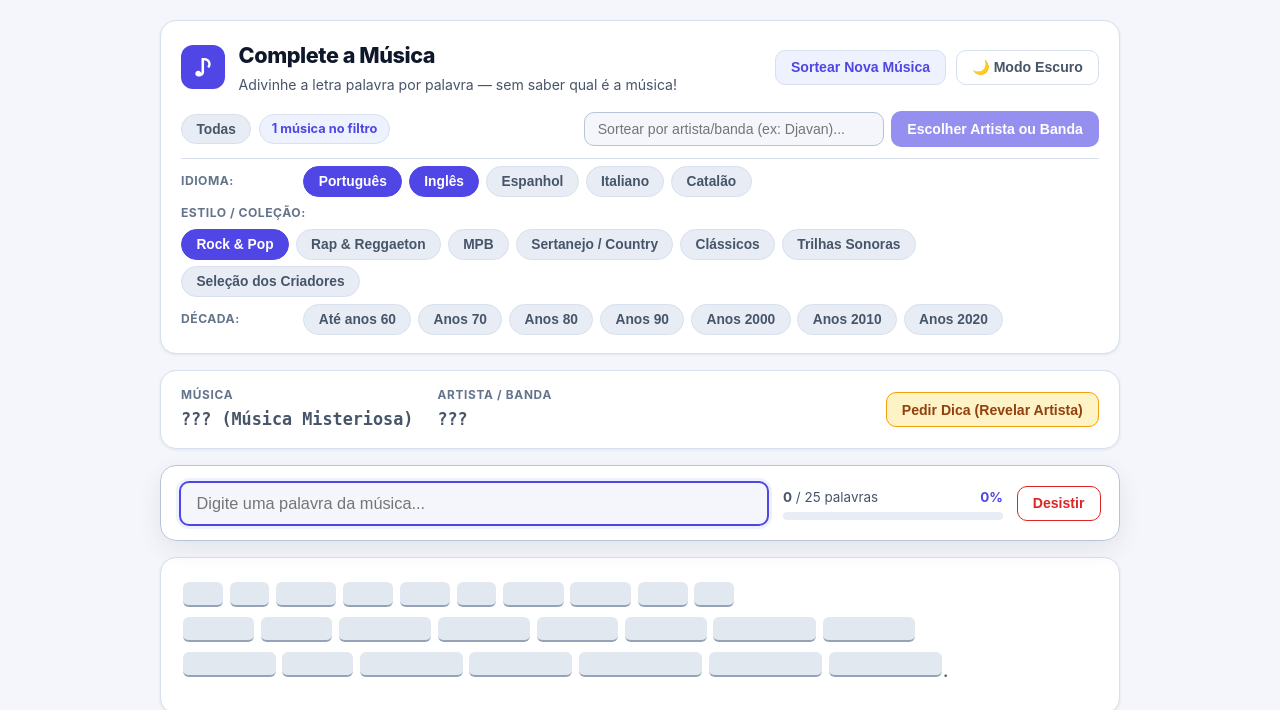
it: Artist / Band Live Draw Mode › draws a song live by artist without adding it to the base catalog and keeps title hidden
Expected: the field labelled "Digite uma palavra da música..." is shown, 179,481 -> 769,526
Type "Djavan" into the field named "Nome do artista ou banda".
click(734, 129); type("Djavan")  # box 584,112 -> 884,146
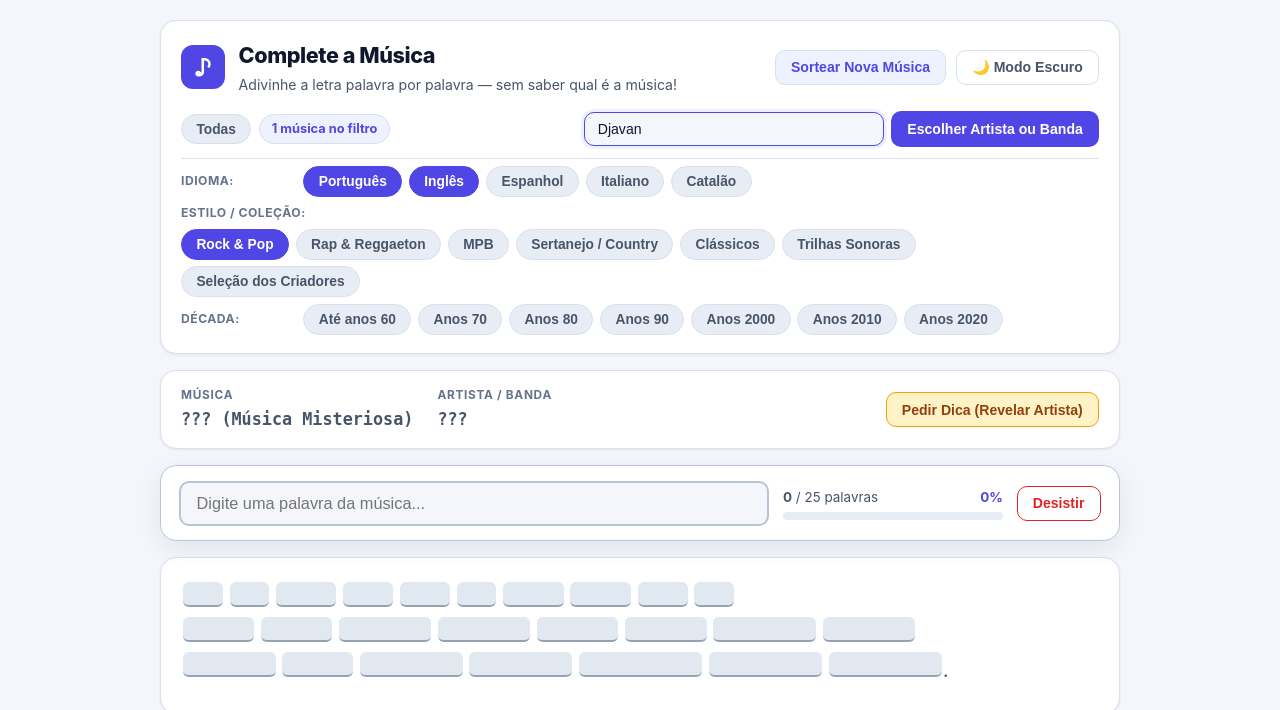
Click the button "Escolher Artista ou Banda".
click(995, 129)  # box 891,111 -> 1099,147
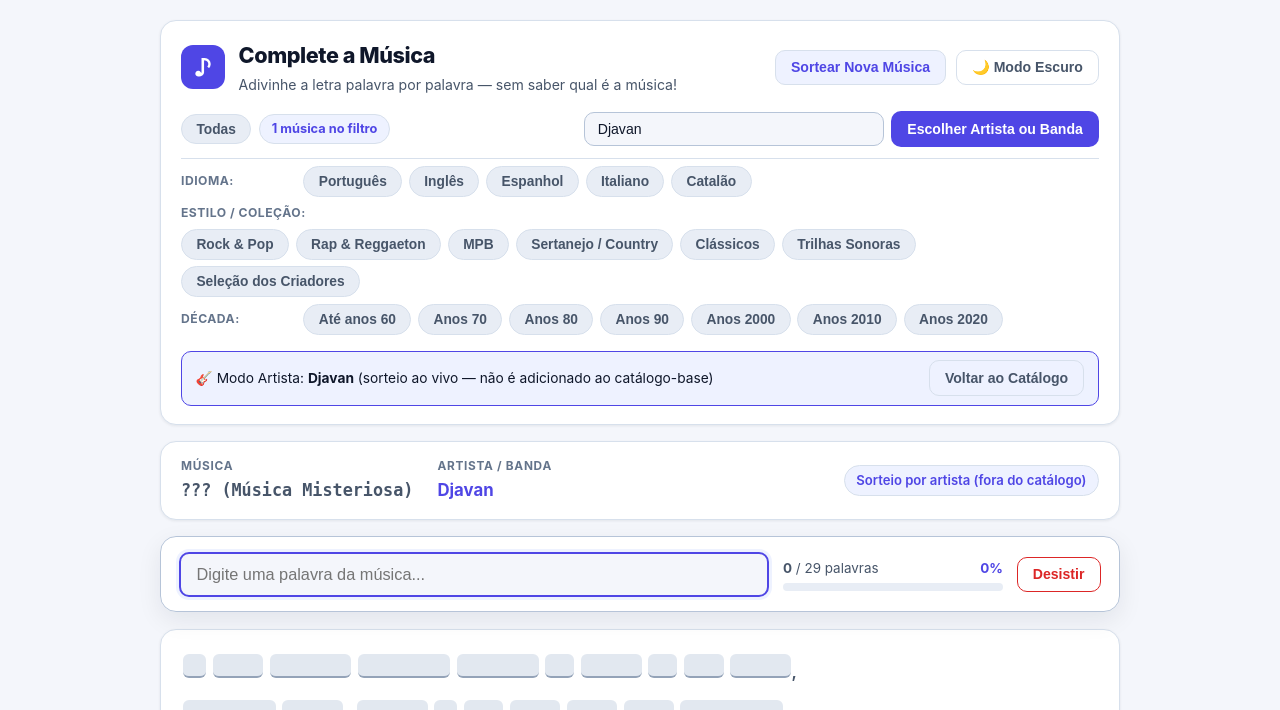
Expected: the heading "Complete a Música" is shown, 239,42 -> 435,68
Result: the text "Modo Artista:" is shown at 196,370 -> 308,386
Result: the text "Djavan" next to "🎸 Modo Artista:" is shown at 308,370 -> 354,386
